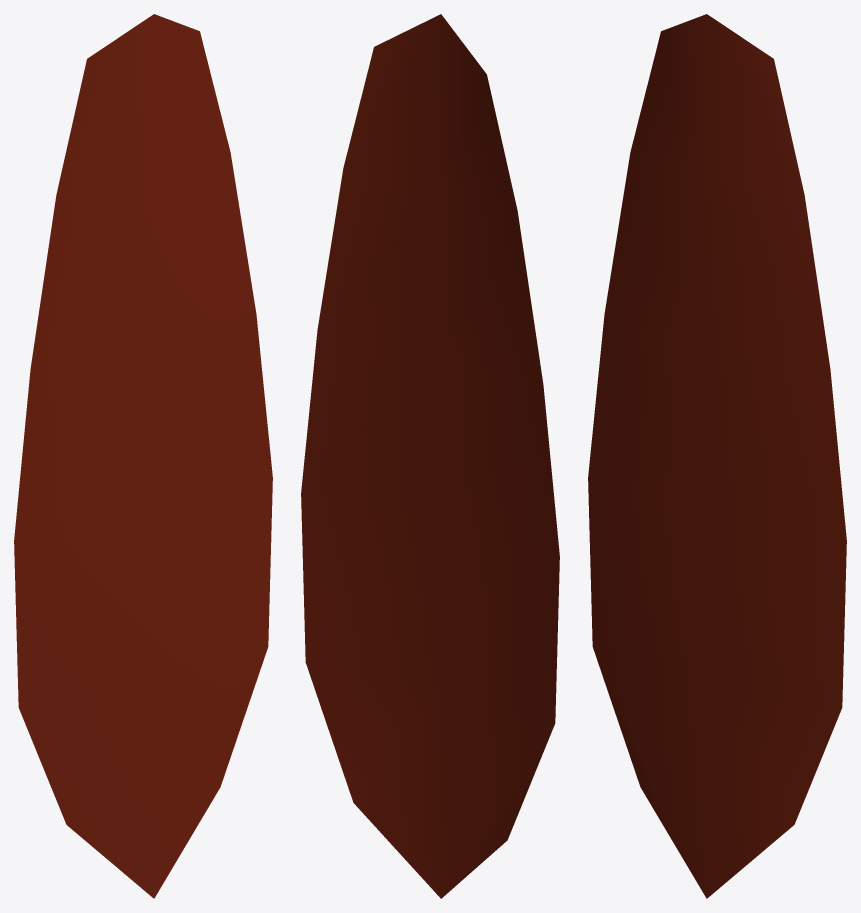
File: pheasant_feather_flight_tertiary_007.obj
The picture shows the model from 3 angles, left to right: view 1: azimuth 30°, elevation 25°; view 2: azimuth 150°, elevation 25°; view 3: azimuth 330°, elevation 25°; orthographic projection.
Visible parts, largest first — view 1: feather_flight_tertiary_007; view 2: feather_flight_tertiary_007; view 3: feather_flight_tertiary_007.
Part boxes in pixels (bbox=[...]): feather_flight_tertiary_007: bbox=[14, 14, 272, 898]; feather_flight_tertiary_007: bbox=[301, 14, 559, 898]; feather_flight_tertiary_007: bbox=[588, 14, 846, 898].
Size of the model in its own units: 0.00887 by 0.029 by 0.000634.
